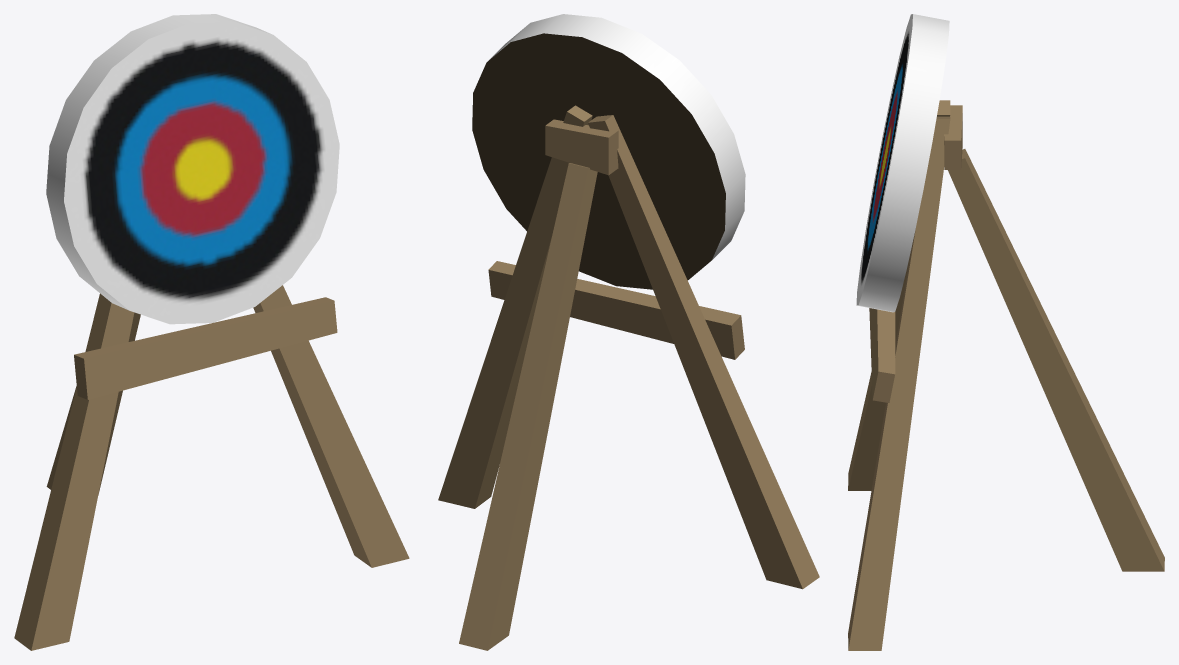
The model's file is model_polytope_target.fbx.
3 views of the same model, side by side, from view 1: azimuth 30°, elevation 25°; view 2: azimuth 150°, elevation 25°; view 3: azimuth 270°, elevation 25° (orthographic). The views are drawn at different scales.
Parts seen in each view (by area): view 1: model_polytope_target; view 2: model_polytope_target; view 3: model_polytope_target.
Part boxes in pixels (x1,y1,x2,y2): model_polytope_target: (14, 14, 409, 650); model_polytope_target: (438, 14, 819, 650); model_polytope_target: (848, 14, 1164, 650).
Bounding box in the file's own units: 131 × 185 × 98.9.
